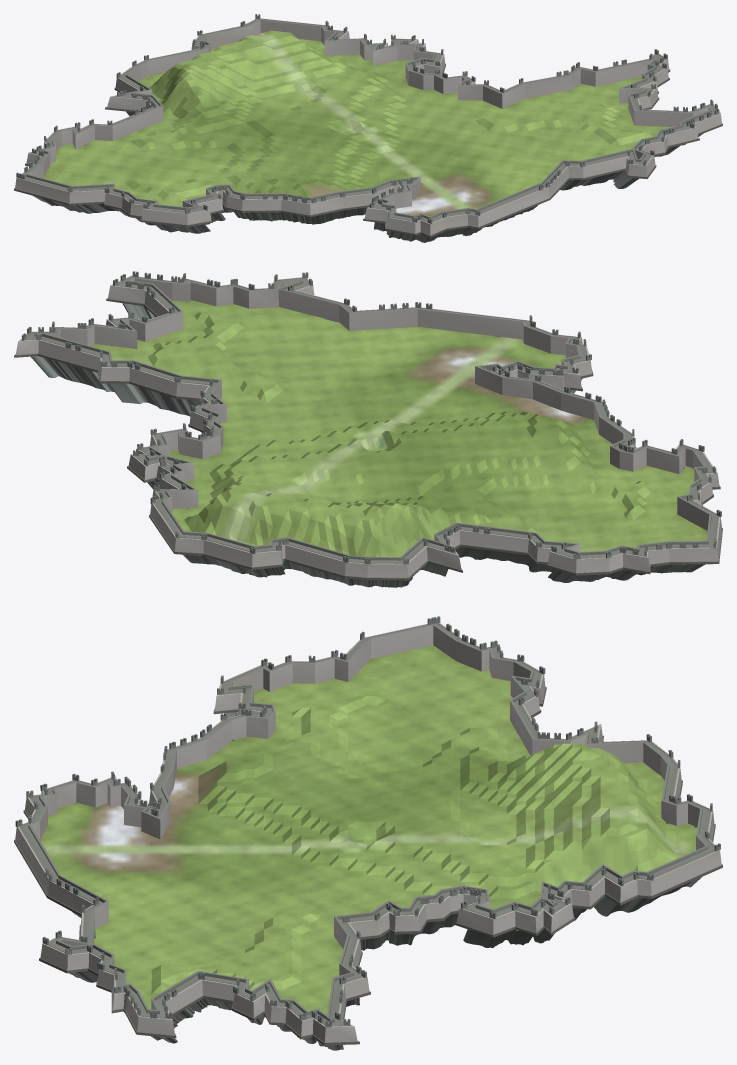
3 renders of one model, top to bottom at view 1: azimuth 30°, elevation 25°; view 2: azimuth 150°, elevation 25°; view 3: azimuth 270°, elevation 25°, orthographic. The views are drawn at different scales.
Parts seen in each view (by area): view 1: ground_dd71a25e; view 2: ground_dd71a25e; view 3: ground_dd71a25e.
Part boxes in pixels (bbox=[...]): ground_dd71a25e: bbox=[14, 14, 722, 242]; ground_dd71a25e: bbox=[14, 271, 722, 587]; ground_dd71a25e: bbox=[14, 616, 722, 1050].
Size of the model in its own units: 155 by 10.85 by 114.
Materials: 3 (1 with a texture image).
